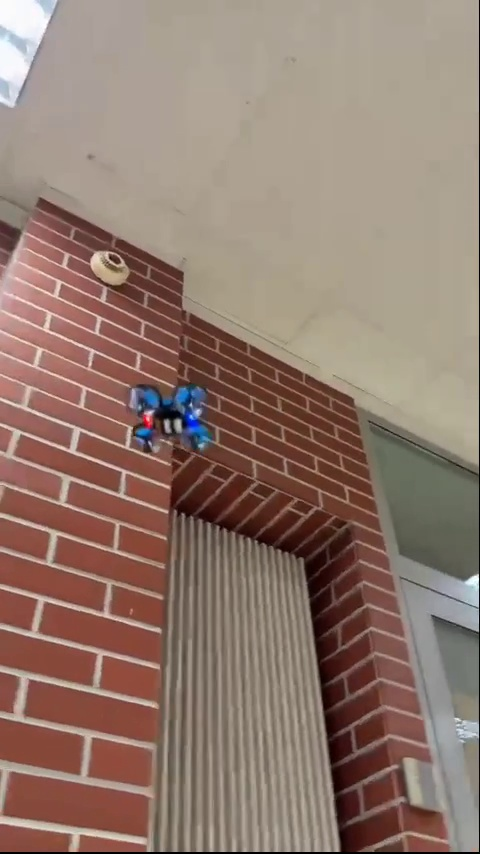drone: (125, 384, 212, 455)
